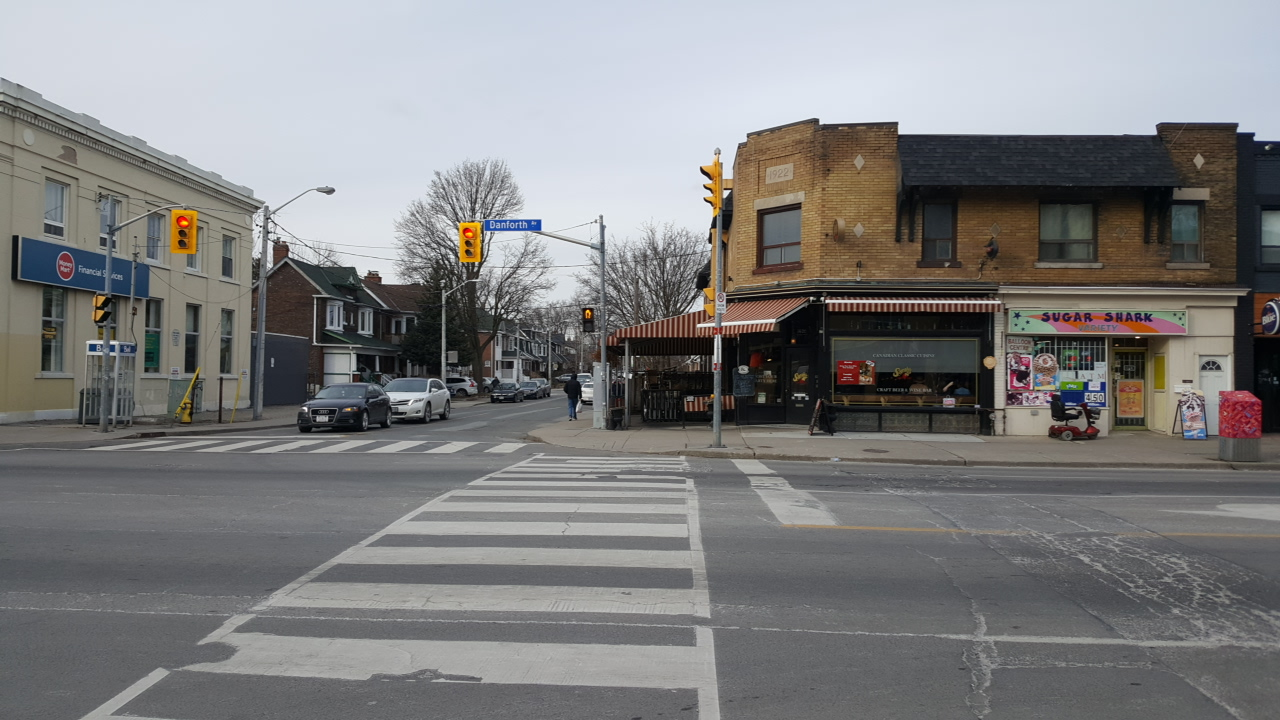light: (580, 306, 595, 333)
